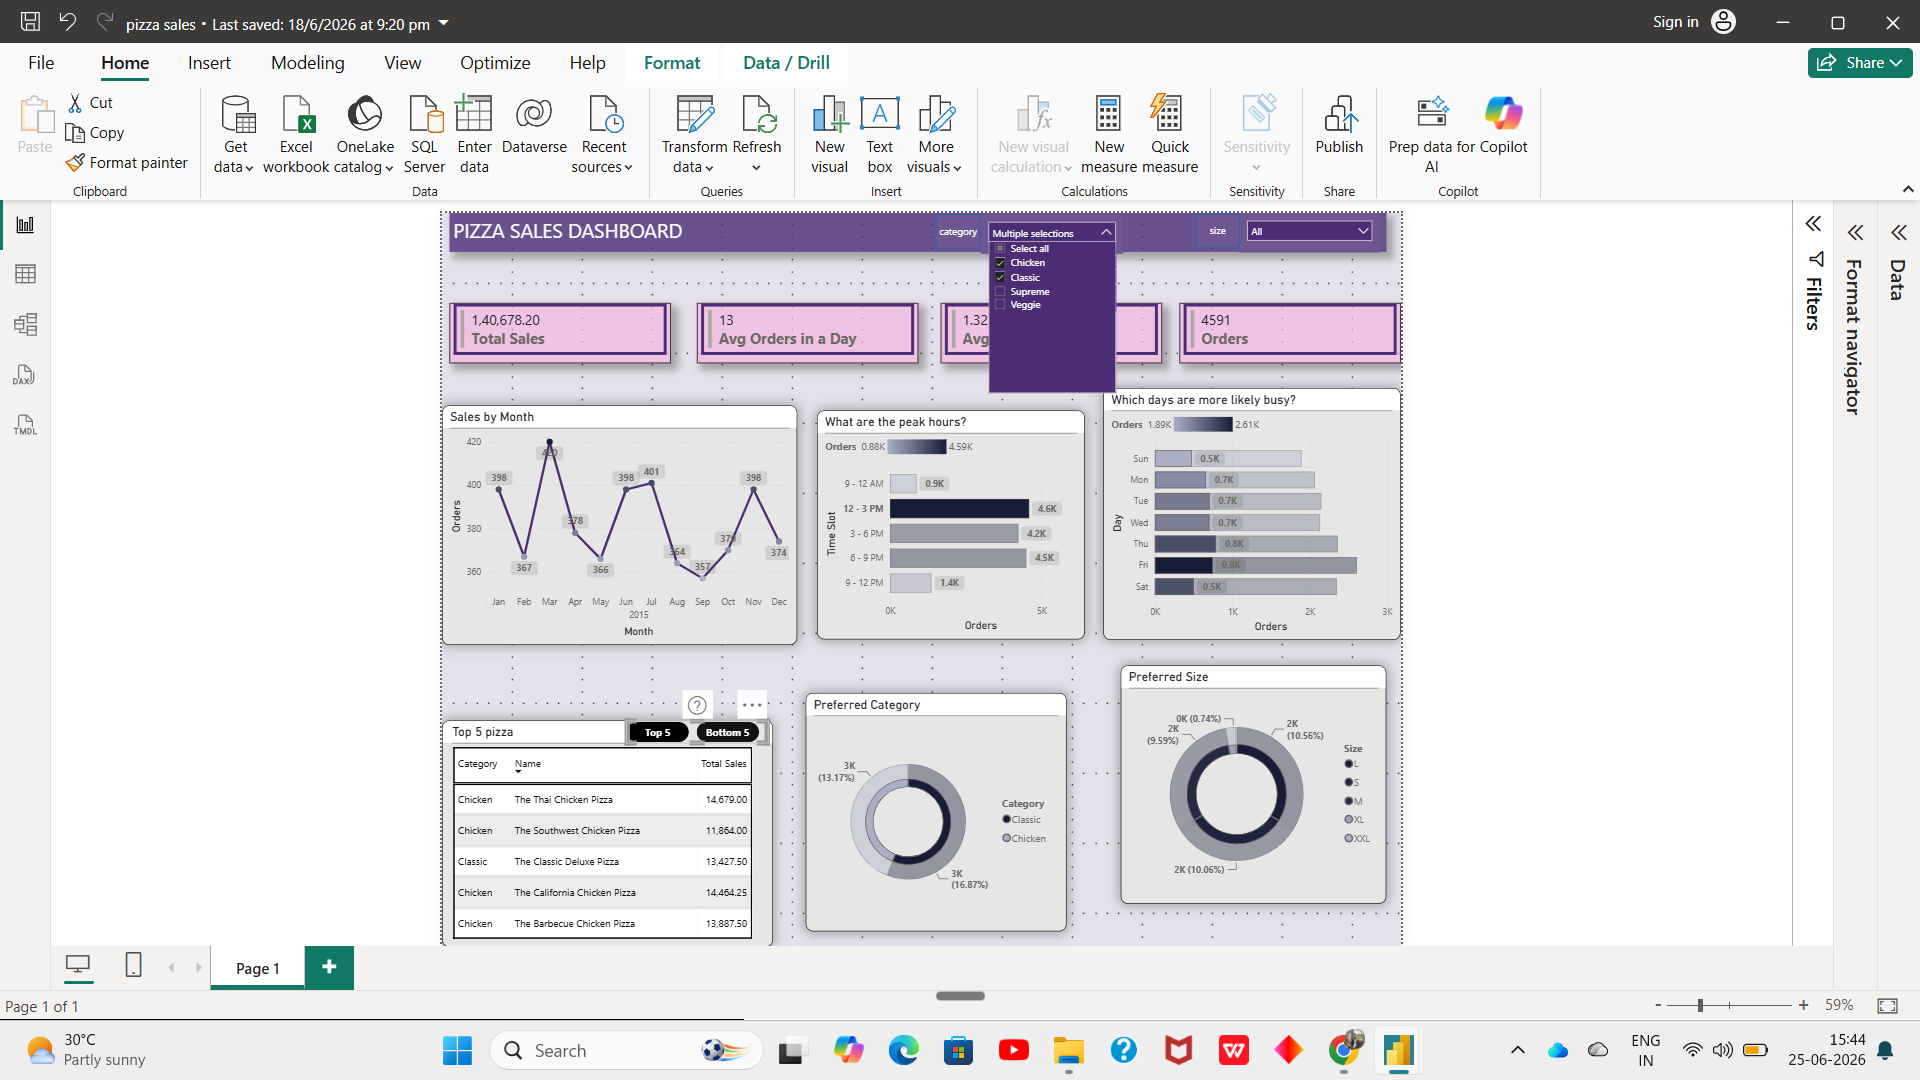

This screenshot's page, from the dashboard's own definition file:
{"tool":"powerbi","page":{"name":"Page 1","canvas":[1300,1000],"ordinal":0},"visuals":[{"type":"textbox","title":"PIZZA SALES DASHBOARD","box":[10,0,1270,52.5],"z":0},{"type":"slicer","fields":{"Values":["pizzas.Size"]},"box":[1082.2,0,190.4,53.2],"z":0,"group":"g1"},{"type":"slicer","fields":{"Values":["Pizza Types.Category"]},"box":[729.8,1.6,192.8,53.2],"z":0,"group":"g2"},{"type":"shape","box":[1022.6,0,59.6,46.8],"z":1000,"group":"g1"},{"type":"shape","box":[669.4,1.6,60.4,46.8],"z":1000,"group":"g2"},{"type":"clusteredBarChart","title":"What are the peak hours?","fields":{"Category":["Orders.Time Slot"],"Y":["All Measures.Orders"]},"box":[508.3,268.3,363.3,310],"z":1000},{"type":"clusteredBarChart","title":"Which days are more likely busy?","fields":{"Category":["Date Table.Day"],"Y":["All Measures.Orders"]},"box":[897.1,237.1,402.9,341.4],"z":2000},{"type":"lineChart","title":"Sales by Month","fields":{"Category":["Date Table.Year","Date Table.Month"],"Y":["All Measures.Orders"]},"box":[0,261.7,481.7,325],"z":3000},{"type":"donutChart","title":"Preferred Category","fields":{"Y":["All Measures.Orders"],"Category":["Pizza Types.Category"]},"box":[493.3,650,353.3,323.3],"z":4000},{"type":"donutChart","title":"Preferred Size","fields":{"Y":["All Measures.Orders"],"Category":["pizzas.Size"]},"box":[920,612.9,360,322.9],"z":5000},{"type":"tableEx","title":"Top 5 pizza","fields":{"Values":["Pizza Types.Category","Pizza Types.Name","All Measures.Total Sales"]},"box":[0,688.5,448.5,307],"z":6000},{"type":"bookmarkNavigator","box":[248.3,688.3,193.3,31.7],"z":8000},{"type":"multiRowCard","fields":{"Values":["All Measures.Total Sales"]},"box":[10,121.7,300,81.7],"z":9000},{"type":"multiRowCard","title":"average orders","fields":{"Values":["All Measures.Avg Orders in a Day"]},"box":[345,121.7,300,81.7],"z":10000},{"type":"multiRowCard","title":"average pizzas","fields":{"Values":["All Measures.Avg Pizzas in an order"]},"box":[676.7,121.7,300,81.7],"z":11000},{"type":"multiRowCard","fields":{"Values":["All Measures.Orders"]},"box":[1000,121.7,300,81.7],"z":12000},{"type":"group","id":"g1","title":"Category","box":[1022.6,0,250,53.2],"z":13000},{"type":"group","id":"g2","title":"Category","box":[669.4,1.6,253.2,53.2],"z":14000}]}

Visuals, with their boxes on the page's 1300x1000 design canvas (x1, y1, x2, y2). These are canvas units, not pixel positions in the 1920x1080 screenshot, which may show the page scaled, cropped or inside an application window:
"PIZZA SALES DASHBOARD" textbox: box(10, 0, 1280, 52)
slicer - pizzas.Size: box(1082, 0, 1273, 53)
slicer - Pizza Types.Category: box(730, 2, 923, 55)
shape: box(1023, 0, 1082, 47)
shape: box(669, 2, 730, 48)
"What are the peak hours?" clusteredBarChart: box(508, 268, 872, 578)
"Which days are more likely busy?" clusteredBarChart: box(897, 237, 1300, 578)
"Sales by Month" lineChart: box(0, 262, 482, 587)
"Preferred Category" donutChart: box(493, 650, 847, 973)
"Preferred Size" donutChart: box(920, 613, 1280, 936)
"Top 5 pizza" tableEx: box(0, 688, 448, 996)
bookmarkNavigator: box(248, 688, 442, 720)
multiRowCard - All Measures.Total Sales: box(10, 122, 310, 203)
"average orders" multiRowCard: box(345, 122, 645, 203)
"average pizzas" multiRowCard: box(677, 122, 977, 203)
multiRowCard - All Measures.Orders: box(1000, 122, 1300, 203)
"Category" group: box(1023, 0, 1273, 53)
"Category" group: box(669, 2, 923, 55)
